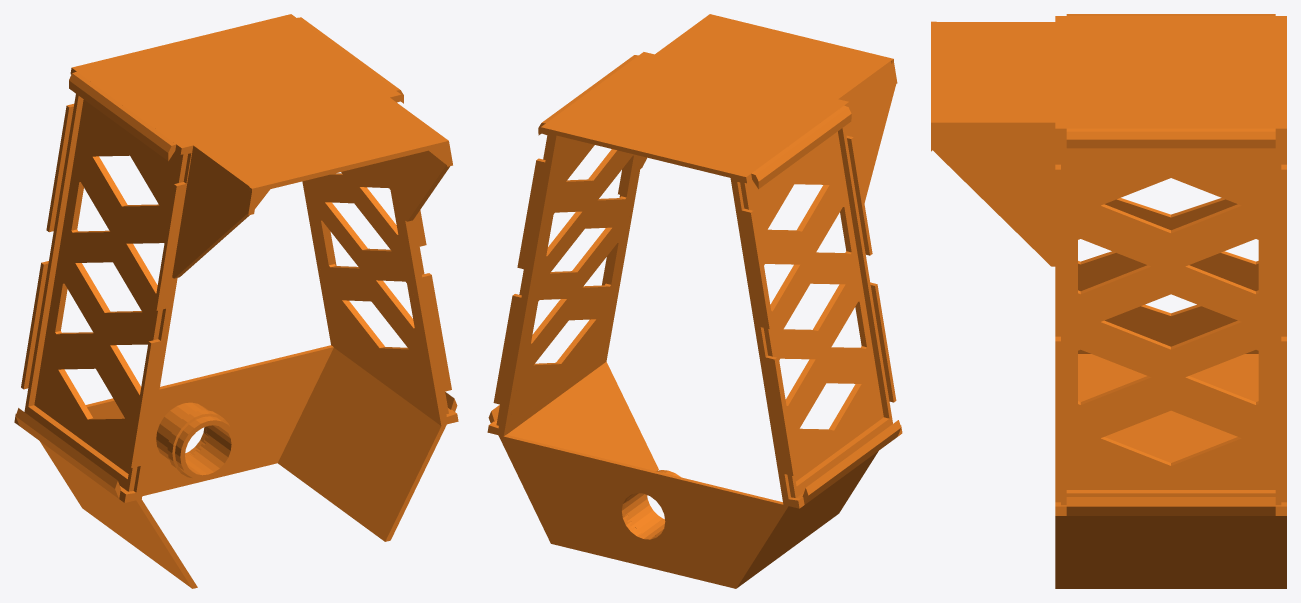
The model's file is tinker.obj.
3 views of the same model, side by side, from view 1: azimuth 30°, elevation 25°; view 2: azimuth 150°, elevation 25°; view 3: azimuth 270°, elevation 25° (orthographic). The views are drawn at different scales.
Visible parts, largest first — view 1: obj_0; view 2: obj_0; view 3: obj_0.
Part boxes in pixels (bbox=[...]): obj_0: bbox=[14, 14, 458, 588]; obj_0: bbox=[487, 14, 902, 588]; obj_0: bbox=[931, 14, 1286, 588].
Bounding box in the file's own units: 73.55 × 91 × 63.
